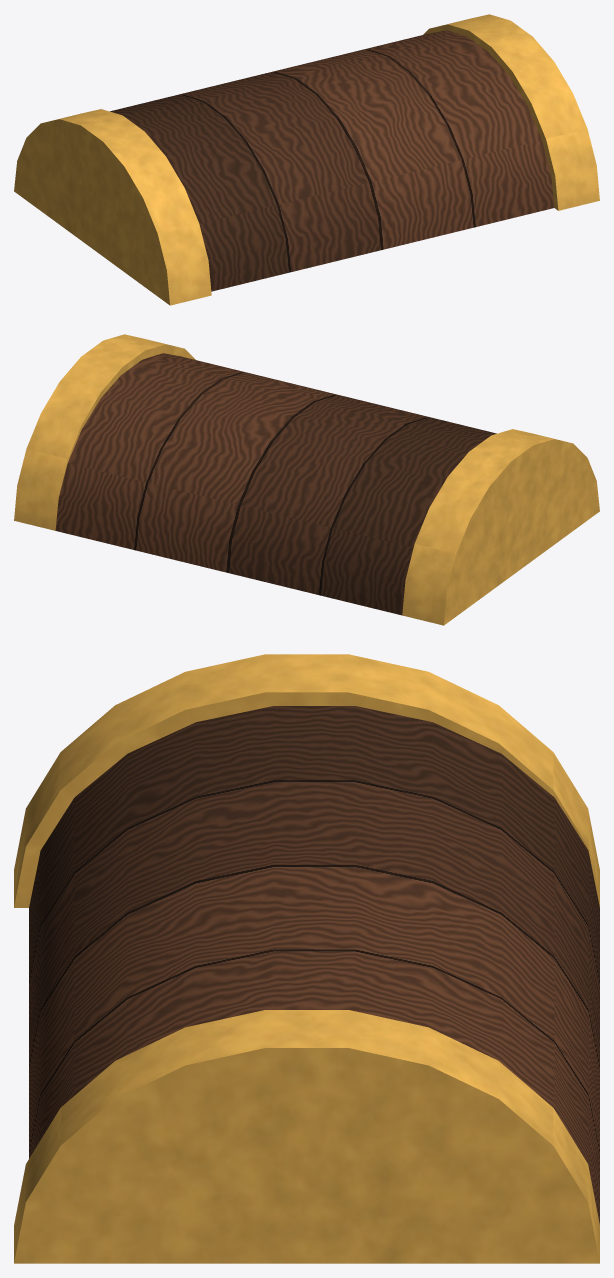
The model's file is dun_lid_gold.glb.
3 views of the same model, one above another, from view 1: azimuth 30°, elevation 25°; view 2: azimuth 150°, elevation 25°; view 3: azimuth 270°, elevation 25° (orthographic). The views are drawn at different scales.
Parts seen in each view (by area): view 1: dun_lid_gold_dwood_0, dun_lid_gold_gold_0; view 2: dun_lid_gold_dwood_0, dun_lid_gold_gold_0; view 3: dun_lid_gold_dwood_0, dun_lid_gold_gold_0.
Boxes of the visible parts, x1,y1,x2,y2 form: dun_lid_gold_dwood_0: (110,30,554,291); dun_lid_gold_gold_0: (14,14,599,305); dun_lid_gold_dwood_0: (55,353,496,615); dun_lid_gold_gold_0: (14,334,599,625); dun_lid_gold_dwood_0: (29,706,599,1224); dun_lid_gold_gold_0: (14,654,599,1263).
Size of the model in its own units: 1.24 by 0.3167 by 0.78.
Materials: 2 (2 with a texture image).
